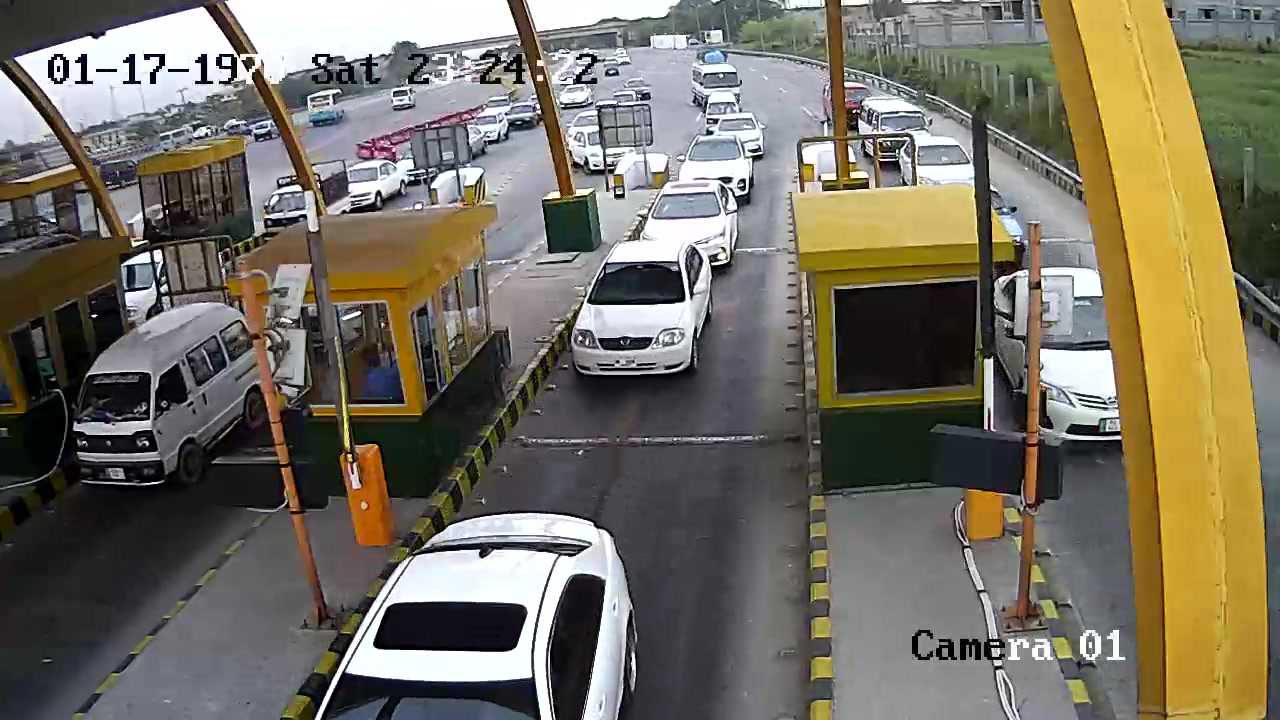F1: (557, 240, 722, 389)
